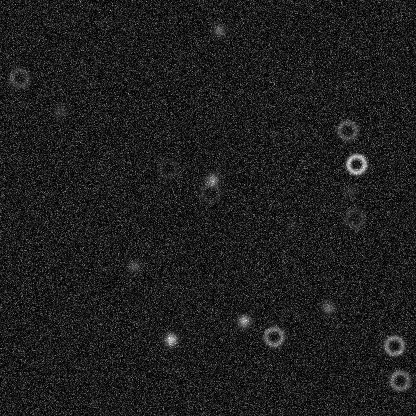Ring: (7, 65, 31, 89), (261, 324, 285, 348), (381, 333, 405, 357), (342, 206, 366, 230), (155, 156, 179, 180), (335, 118, 359, 142), (344, 152, 368, 176), (198, 181, 222, 205), (387, 368, 411, 392)
Spot: (125, 258, 141, 274), (162, 331, 178, 347), (204, 171, 220, 187), (235, 312, 251, 328), (52, 103, 68, 119), (210, 22, 226, 38), (319, 299, 335, 315), (342, 183, 358, 199), (284, 218, 300, 234)
